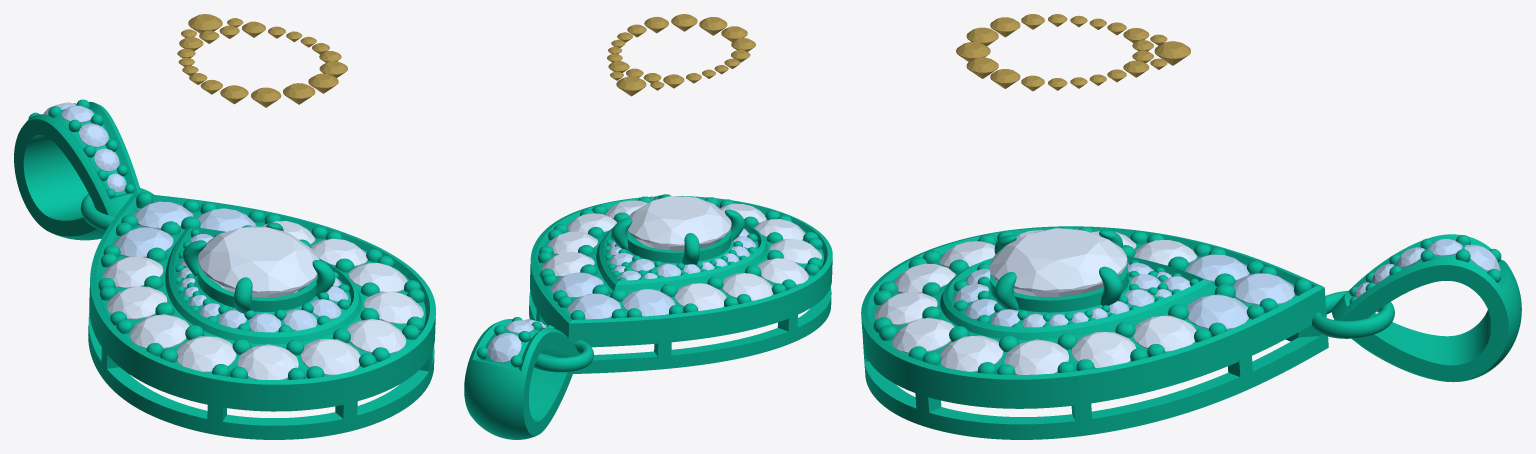
3 views of the same model, side by side, from view 1: azimuth 30°, elevation 25°; view 2: azimuth 150°, elevation 25°; view 3: azimuth 270°, elevation 25° (orthographic). The views are drawn at different scales.
Visible parts, largest first — view 1: VBP186 001(base).3dm, Diamond_Round (×24), Diamond_Oval, Bezel, Head Prong (×3); view 2: VBP186 001(base).3dm, Diamond_Round (×16), Diamond_Oval, Bezel, Head Prong (×3); view 3: VBP186 001(base).3dm, Diamond_Round (×12), Diamond_Oval, Bezel, Head Prong (×2).
Part boxes in pixels (x1=…): VBP186 001(base).3dm: x1=14, y1=101, x2=435, y2=439; Diamond_Round (×24): x1=61, y1=14, x2=423, y2=379; Diamond_Oval: x1=198, y1=226, x2=319, y2=297; Bezel: x1=197, y1=263, x2=317, y2=311; Head Prong (×3): x1=182, y1=240, x2=335, y2=313; VBP186 001(base).3dm: x1=464, y1=196, x2=832, y2=439; Diamond_Round (×16): x1=487, y1=17, x2=821, y2=362; Diamond_Oval: x1=627, y1=196, x2=731, y2=250; Bezel: x1=627, y1=230, x2=731, y2=263; Head Prong (×3): x1=611, y1=209, x2=744, y2=264; VBP186 001(base).3dm: x1=861, y1=226, x2=1521, y2=439; Diamond_Round (×12): x1=874, y1=240, x2=1294, y2=374; Diamond_Oval: x1=989, y1=228, x2=1127, y2=296; Bezel: x1=990, y1=264, x2=1128, y2=312; Head Prong (×2): x1=994, y1=266, x2=1122, y2=310.
Bounding box in the file's own units: 1.87 × 1.91 × 3.45.
